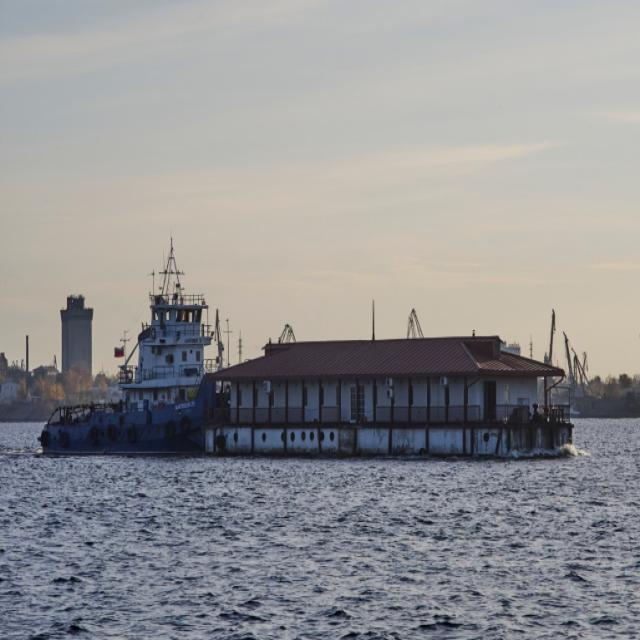tugboat: (36, 291, 249, 466)
